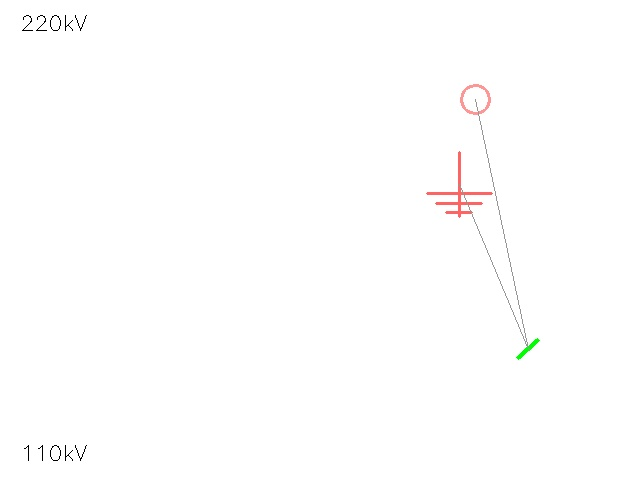busbar: (512, 333, 544, 365)
feeder_terminal: (447, 71, 503, 127)
ground: (427, 152, 491, 216)
